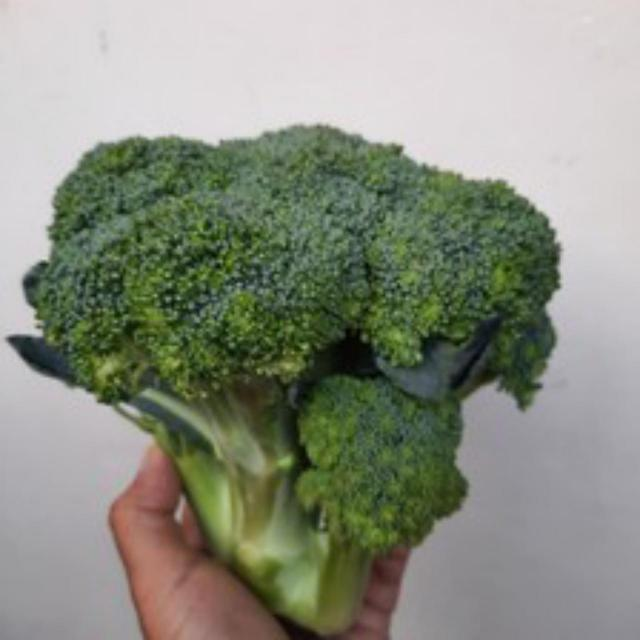broccoli: (28, 100, 566, 637)
